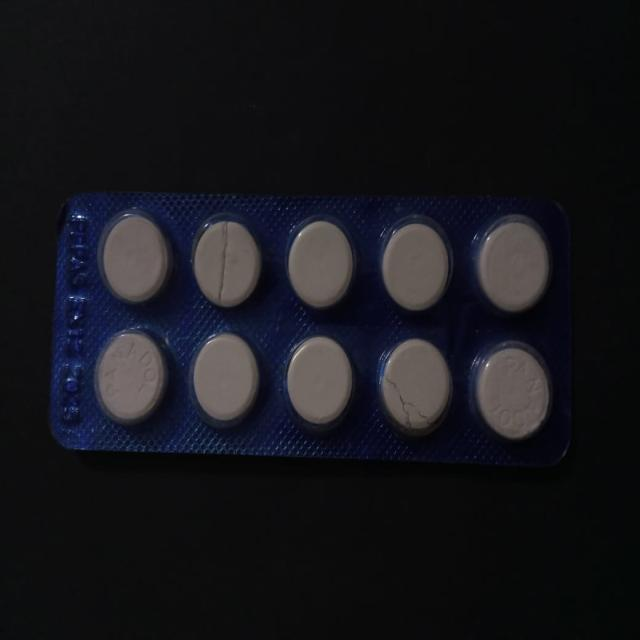defect: (374, 332, 455, 443), (187, 208, 268, 314)
